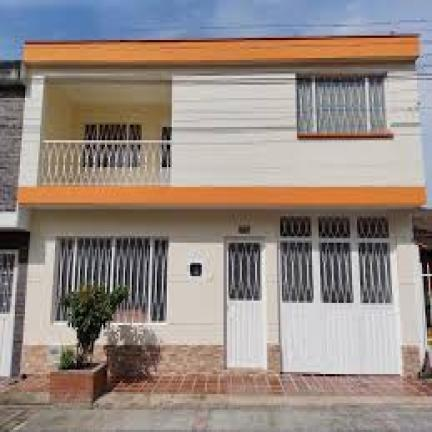casa: (17, 36, 425, 374)
